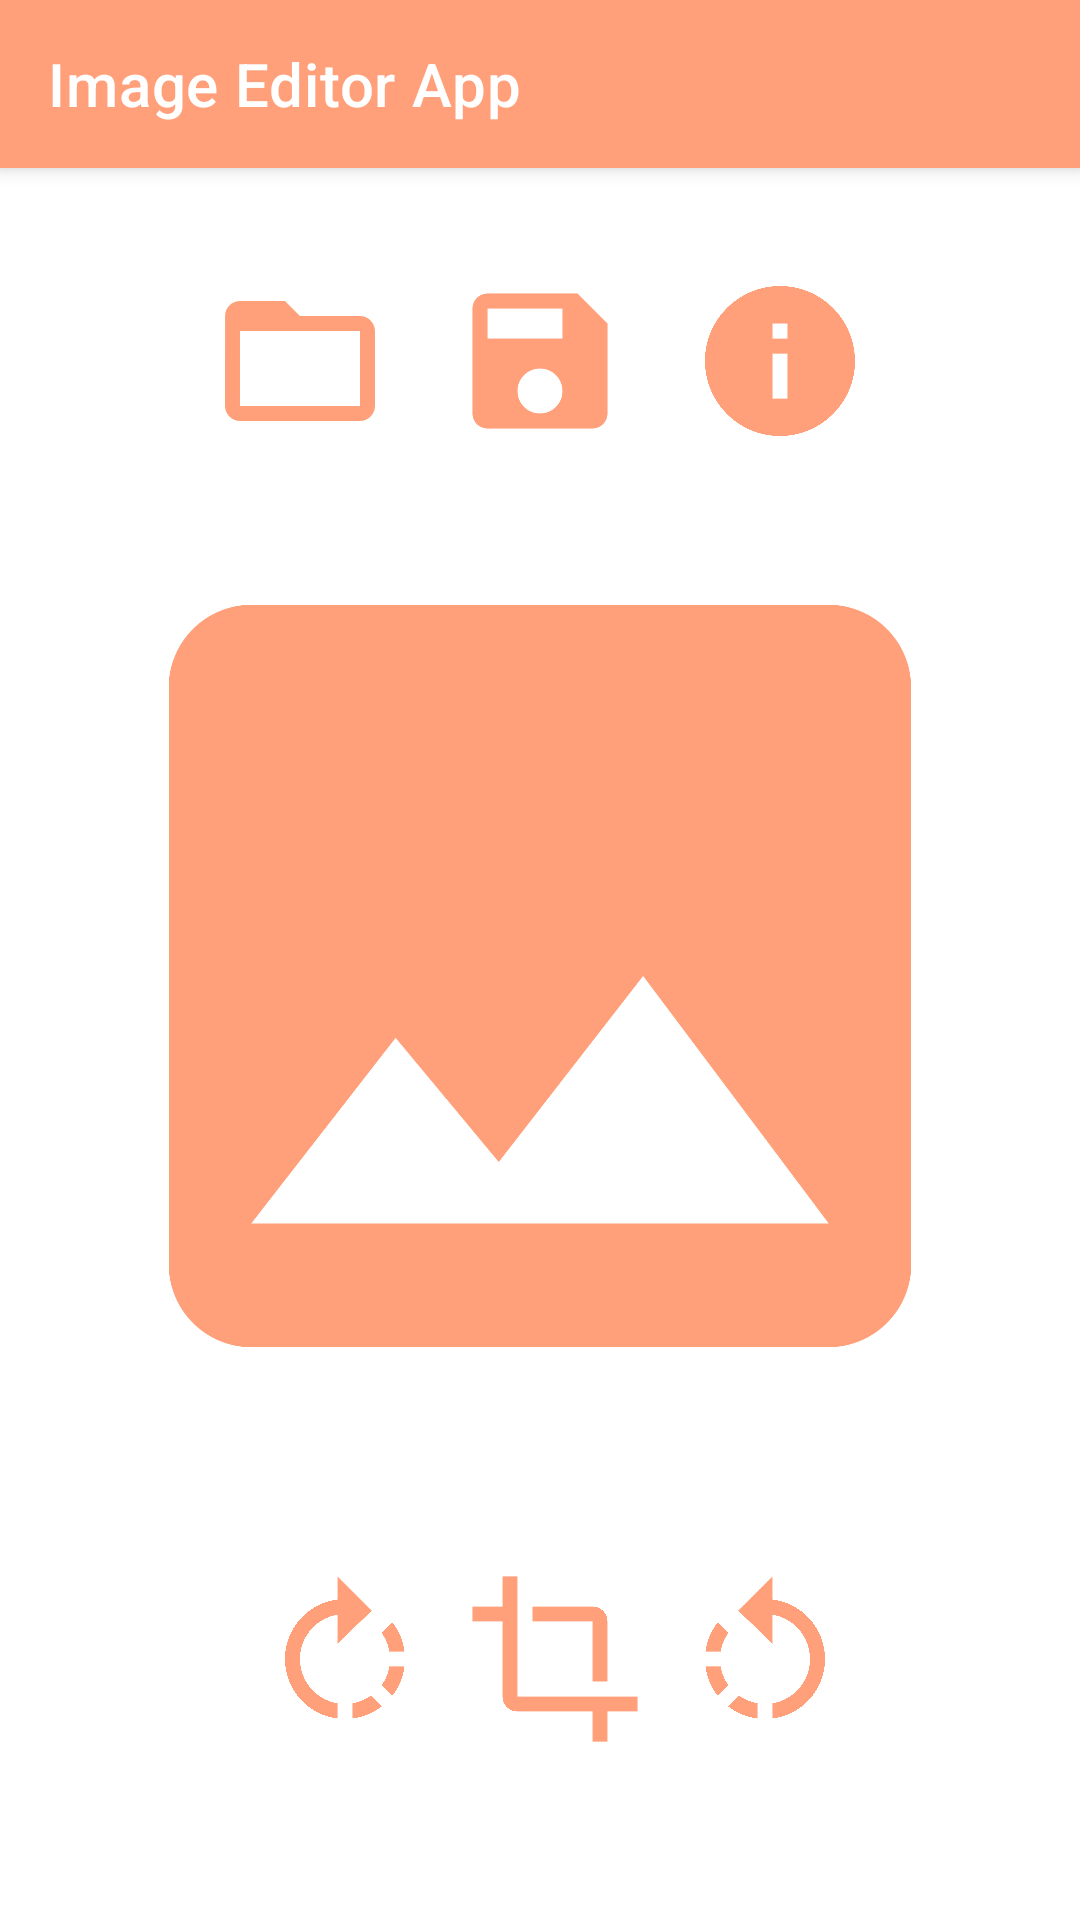

Screen size 1080×1920. Icon name, then its center in pixels as (x,y):
crop: (555,1659)
folder open: (300,361)
info: (780,361)
rotate left: (765,1648)
rotate right: (345,1648)
save: (540,361)
